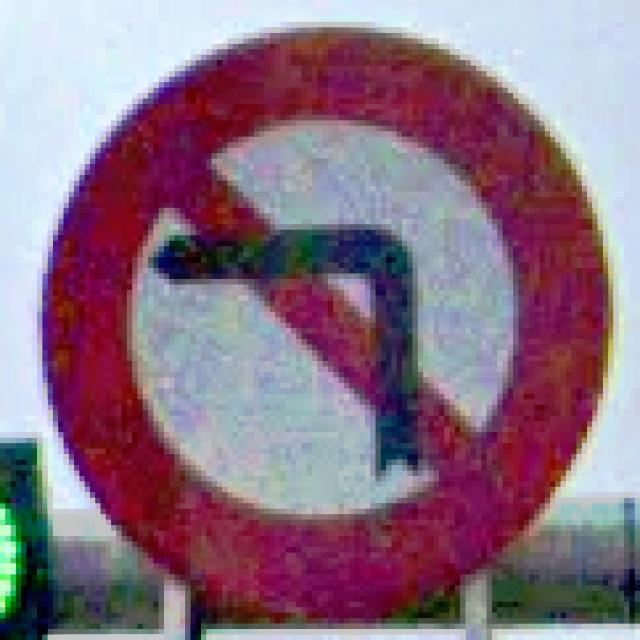noturnleft: (31, 16, 614, 624)
